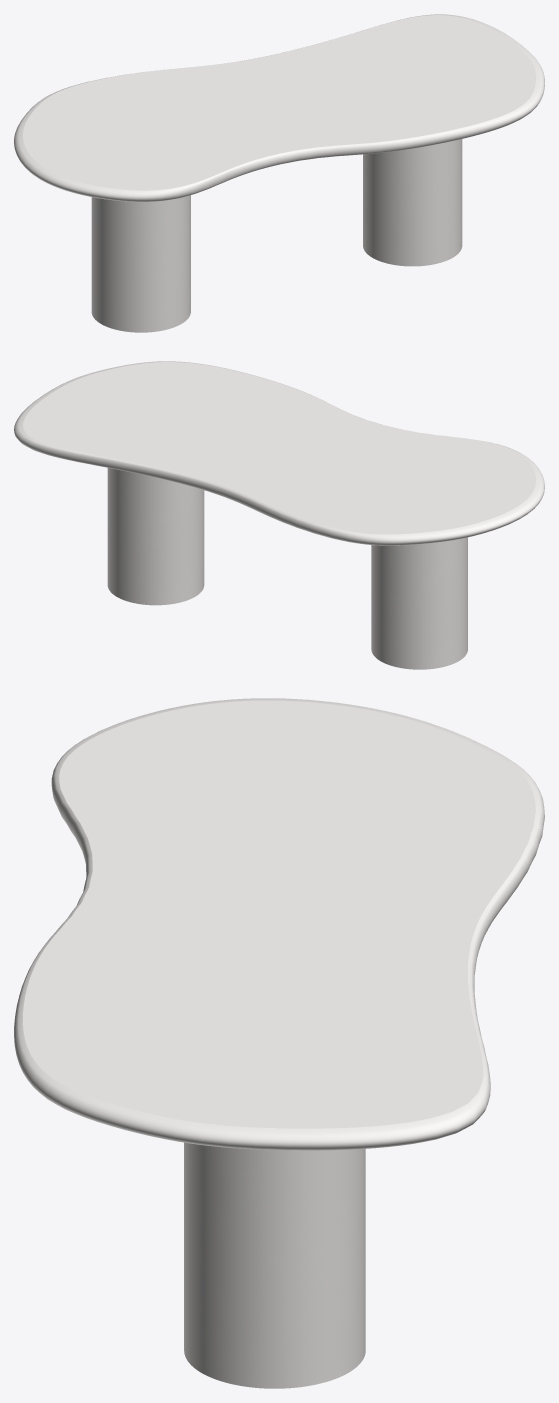
The model's file is purewhite_wave_round_stream.glb.
3 views of the same model, one above another, from view 1: azimuth 30°, elevation 25°; view 2: azimuth 150°, elevation 25°; view 3: azimuth 270°, elevation 25° (orthographic). The views are drawn at different scales.
Parts seen in each view (by area): view 1: round_wave, stream; view 2: round_wave, stream; view 3: round_wave, stream.
Part boxes in pixels (x1,y1,x2,y2): round_wave: (14, 14, 544, 201); stream: (91, 139, 462, 332); round_wave: (14, 361, 544, 545); stream: (107, 468, 467, 669); round_wave: (14, 698, 544, 1150); stream: (184, 1142, 365, 1388).
Size of the model in its own units: 7.5 by 2.5 by 3.8.
1 material, 1 textured.
